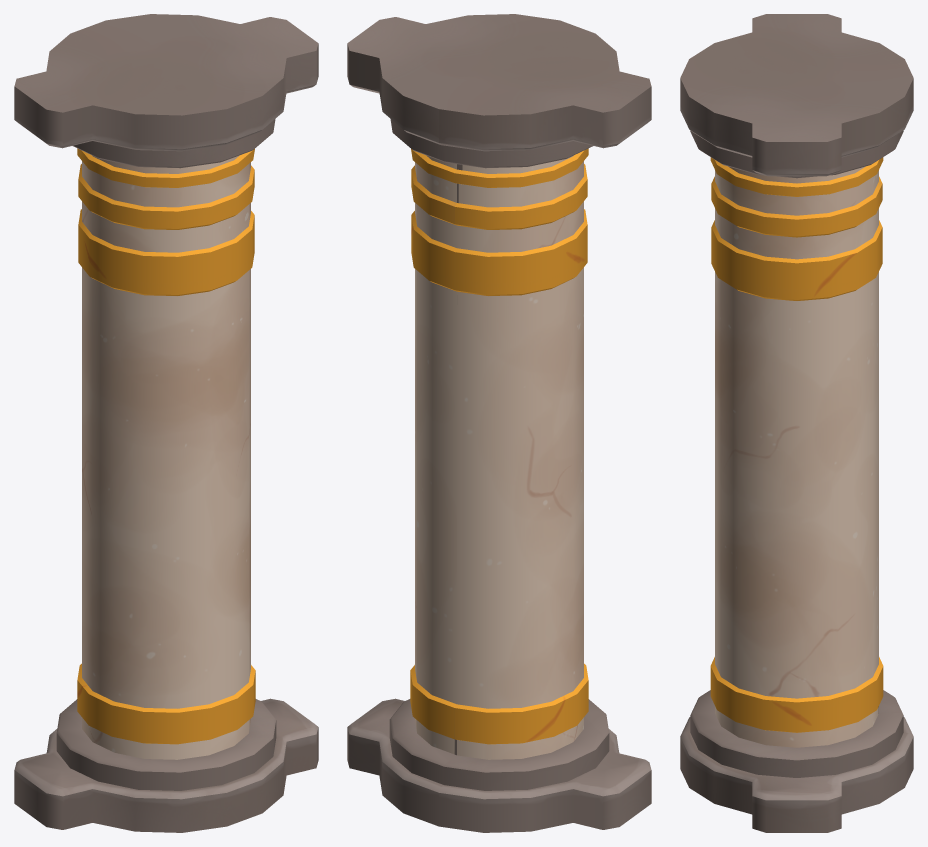
The model's file is CylinderPillar1.fbx.
The picture shows the model from 3 angles, left to right: view 1: azimuth 30°, elevation 25°; view 2: azimuth 150°, elevation 25°; view 3: azimuth 270°, elevation 25°; orthographic projection. The views are drawn at different scales.
Visible parts, largest first — view 1: CylinderPillar1; view 2: CylinderPillar1; view 3: CylinderPillar1.
Boxes of the visible parts, x1,y1,x2,y2 form: CylinderPillar1: [14, 14, 318, 832]; CylinderPillar1: [347, 14, 651, 832]; CylinderPillar1: [680, 14, 913, 832].
Bounding box in the file's own units: 3.18 × 8 × 2.45.
